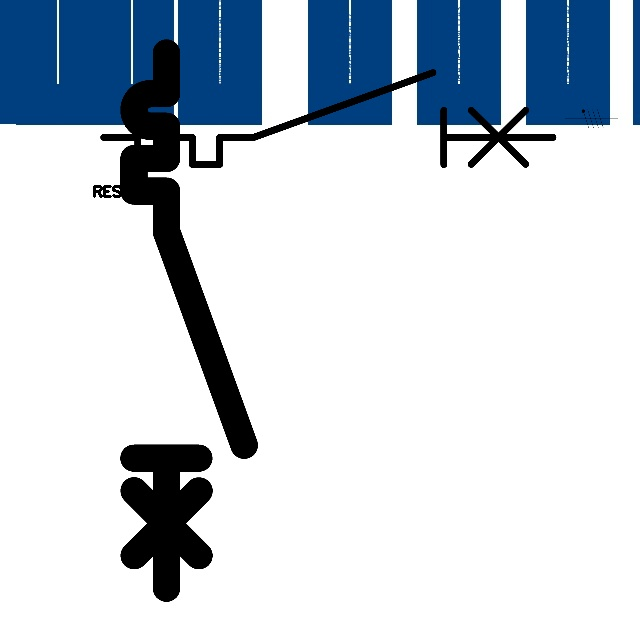interruptor_termomagnetico: (120, 39, 257, 601), (92, 61, 564, 176)
